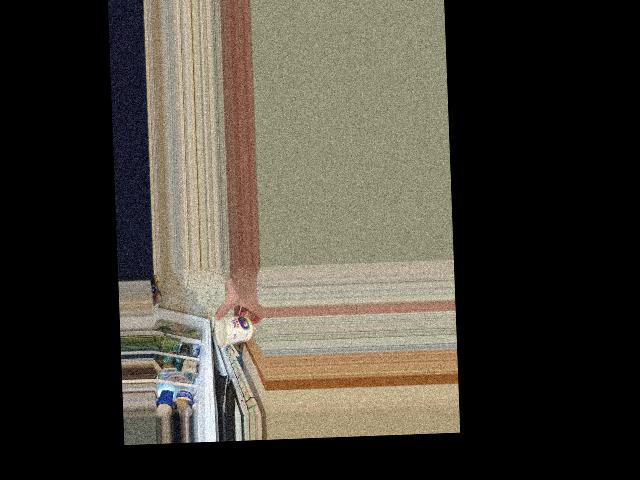cotage: (211, 309, 254, 350)
